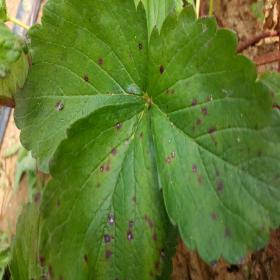Leaf Spot: (147, 4, 279, 266), (10, 0, 149, 175), (38, 101, 170, 279)
